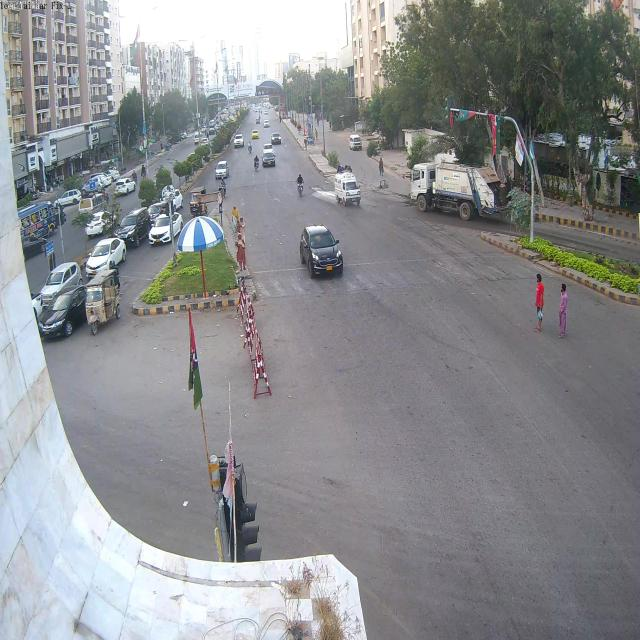car: (43, 285, 95, 340), (294, 227, 341, 283), (37, 258, 78, 300), (88, 243, 133, 277), (328, 167, 362, 205)
motorbike: (296, 181, 304, 198), (253, 160, 260, 172)
truck: (406, 157, 513, 223)
